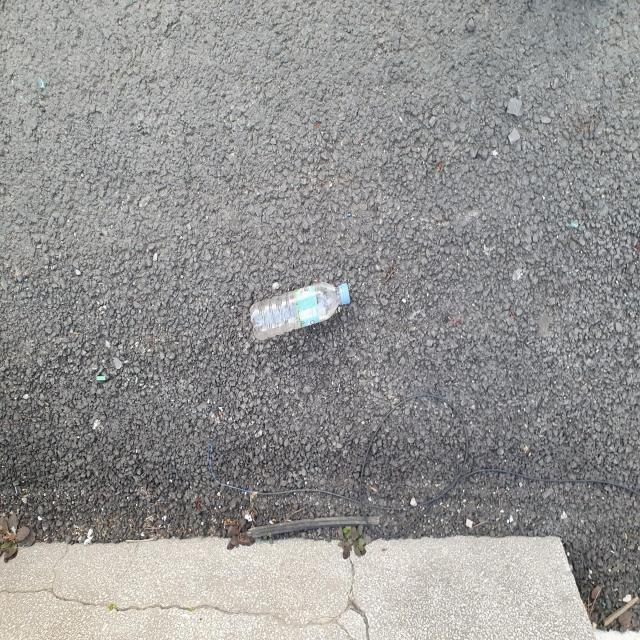plastic: (250, 282, 350, 340)
